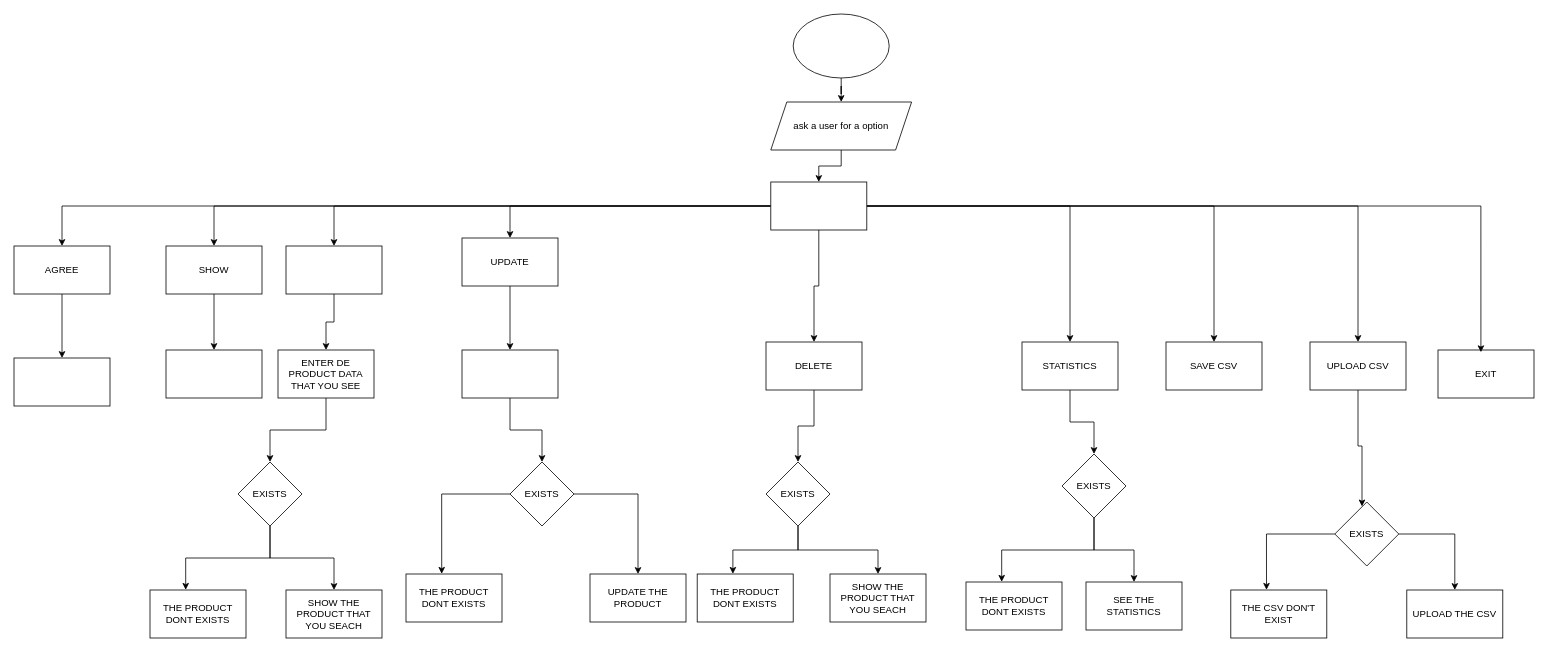
Image size: 1548x652. Some labels were removed from this diagram. The box of each missing label's shape, as (x1, y1, x2, y2) in pixels:
ENTER DE PRODUCT DATA THAT YOU UPDATE: (461, 349, 558, 398)
ENTER PRODUCT DATA: (13, 357, 110, 406)
MENU: (770, 181, 867, 230)
SEACH: (285, 245, 382, 294)
SHOW DATA: (165, 349, 262, 398)
star: (792, 13, 889, 78)
